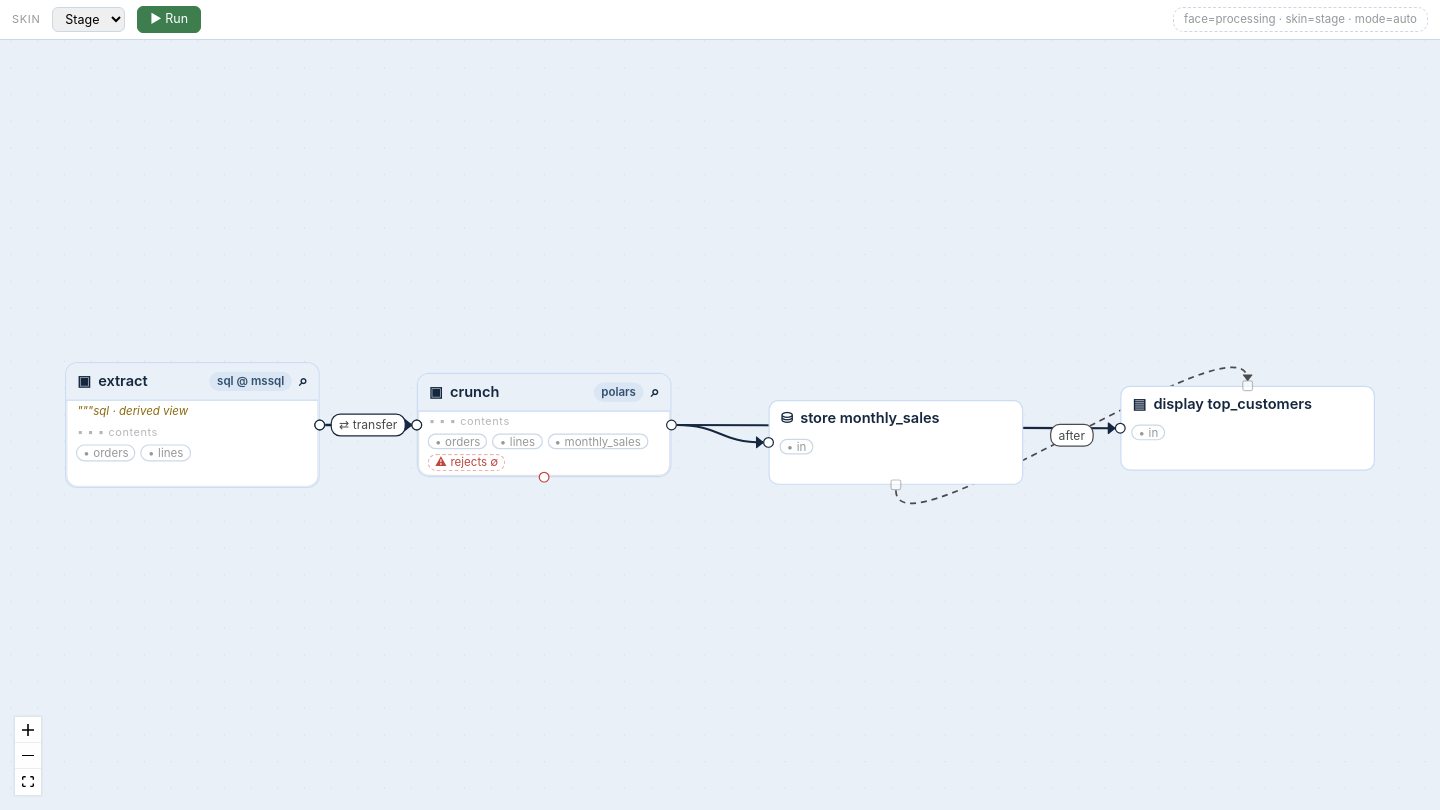
Scenario: run results — D-5 (drawer + chip, never in-canvas cards) › the result table lives ONLY in the drawer; no in-canvas result card exists
Click the button with test id "run-button" at (169, 19), box [137,6,201,33]
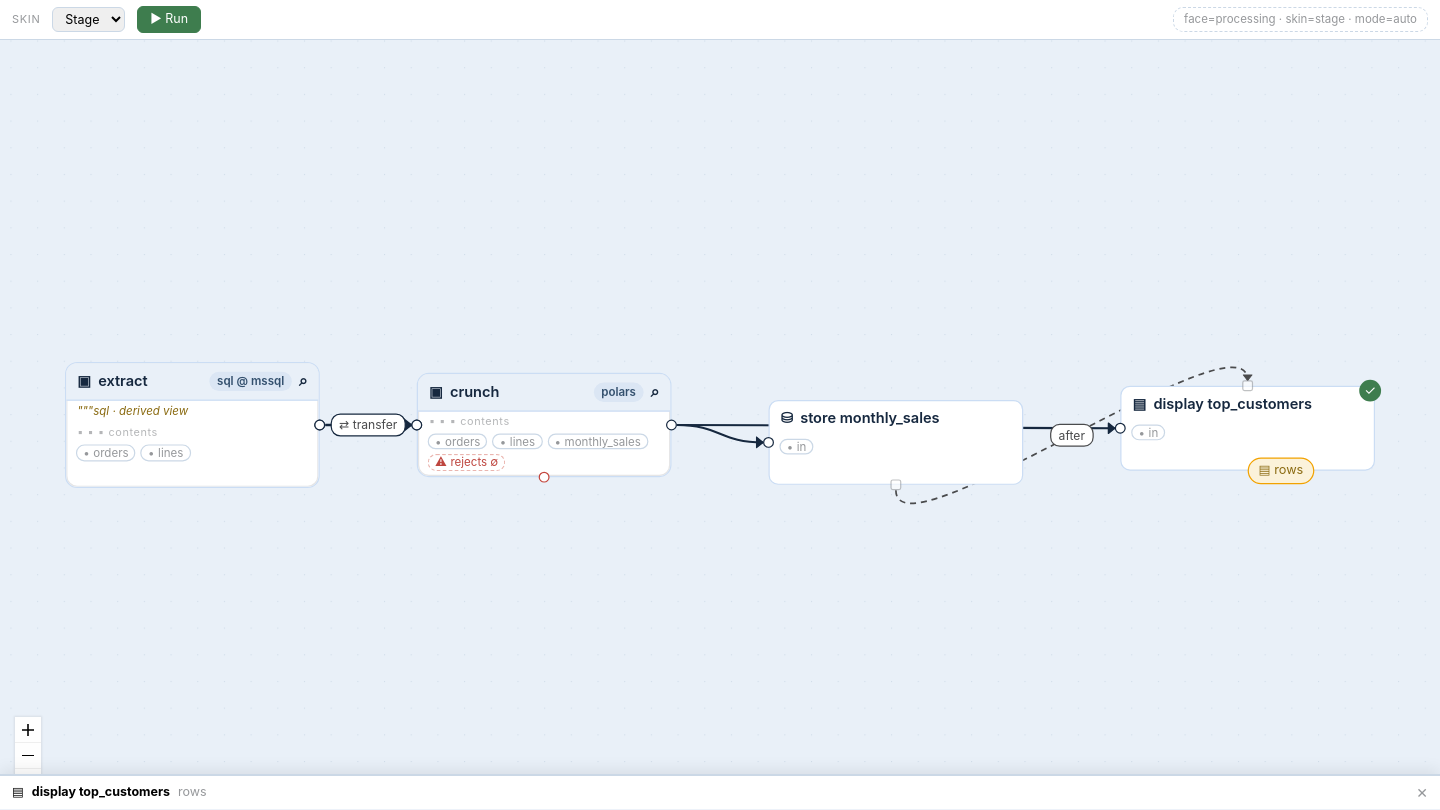
Check: the element with test id "result-drawer" is shown, box [0,774,1439,809]
